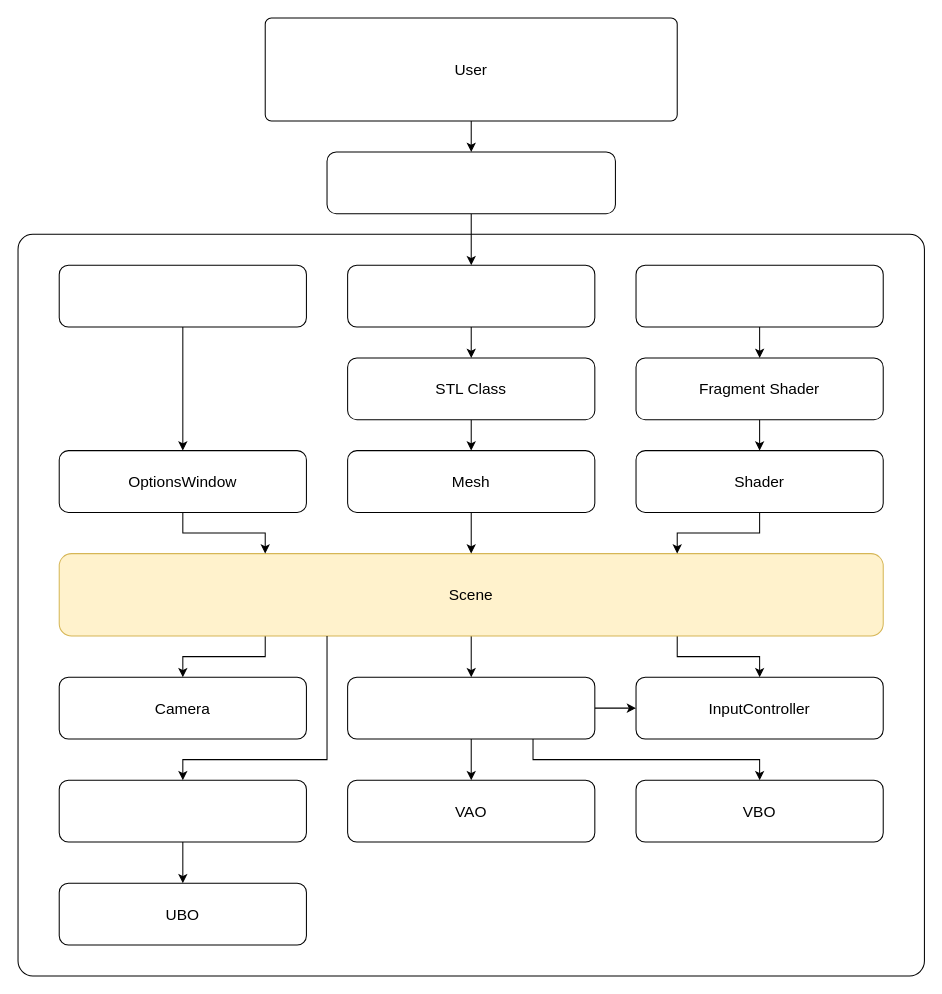
The diagram is 942 pixels wide and 994 high, and some of its shapes have lost their labels. Here are the shapes that lost their labels. From the top down, the box of each, then its label:
(326, 151, 615, 214): STL File
(58, 264, 306, 327): ImGuiWindowBase
(347, 264, 595, 327): Vertex
(635, 264, 883, 327): Vertex Shader
(347, 676, 595, 739): Drawable
(58, 779, 306, 842): LightManager
